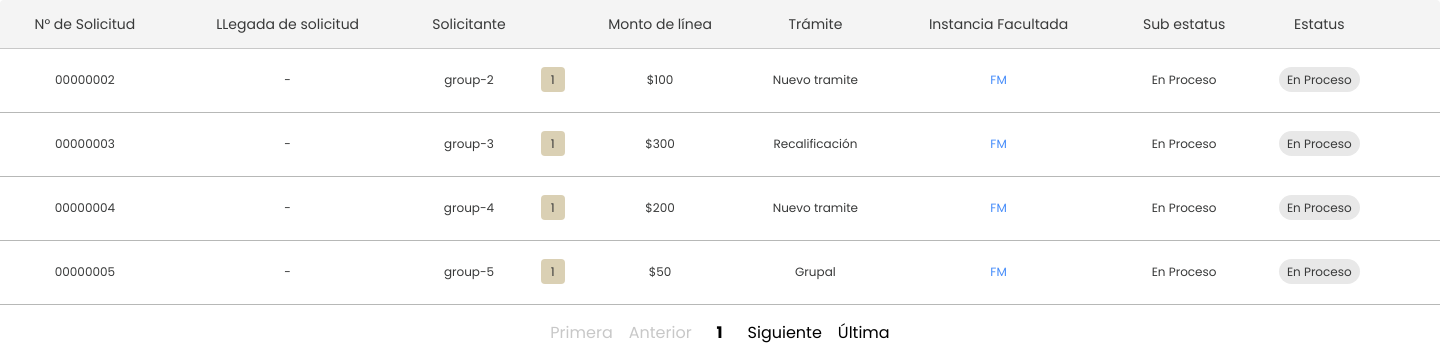
Scenario: TableRequests Component › the table order is restored when a third click is made on a column heading
The width and height of the screenshot is (1440, 360).
Step 1. Click the text "Monto de línea" → (660, 24), box [608,14,712,34]
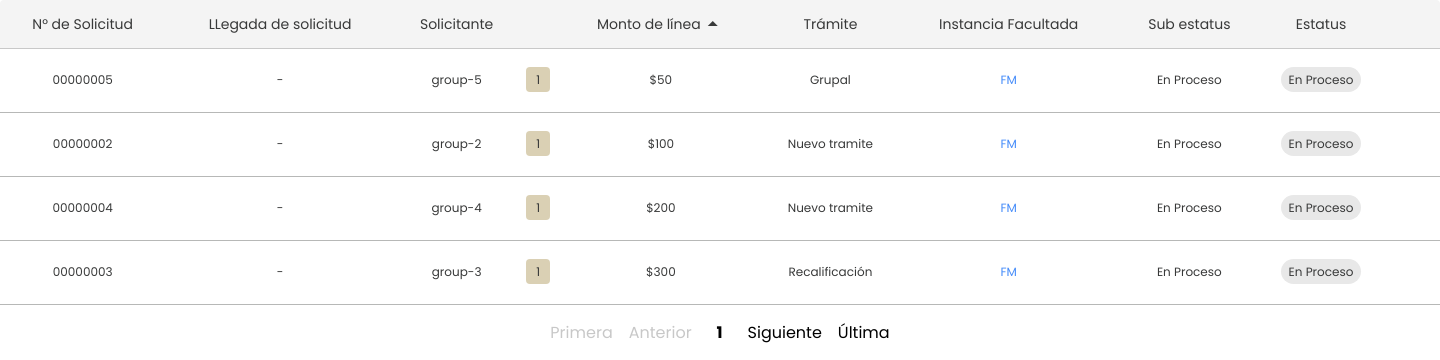
Step 2. Click the text "Monto de línea" → (649, 24), box [597,14,701,34]
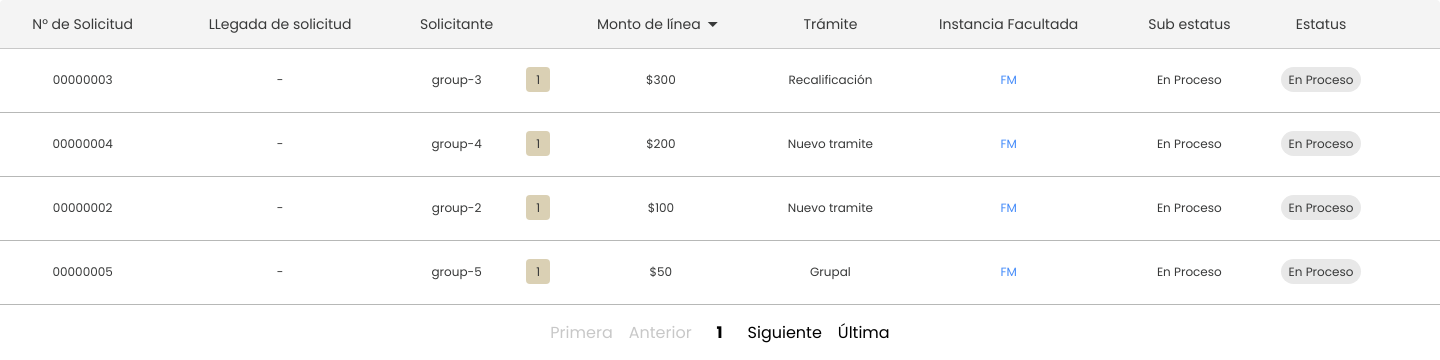
Step 3. Click the text "Monto de línea" → (649, 24), box [597,14,701,34]
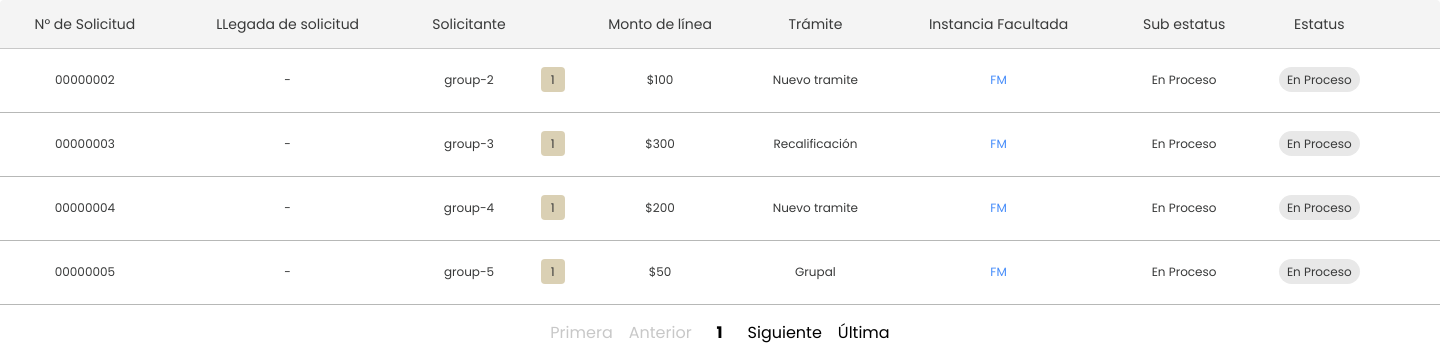
Expected: the text "$100" is shown, [573,48,747,112]
Expected: the text "$300" is shown, [573,112,747,176]
Expected: the text "$200" is shown, [573,176,747,240]
